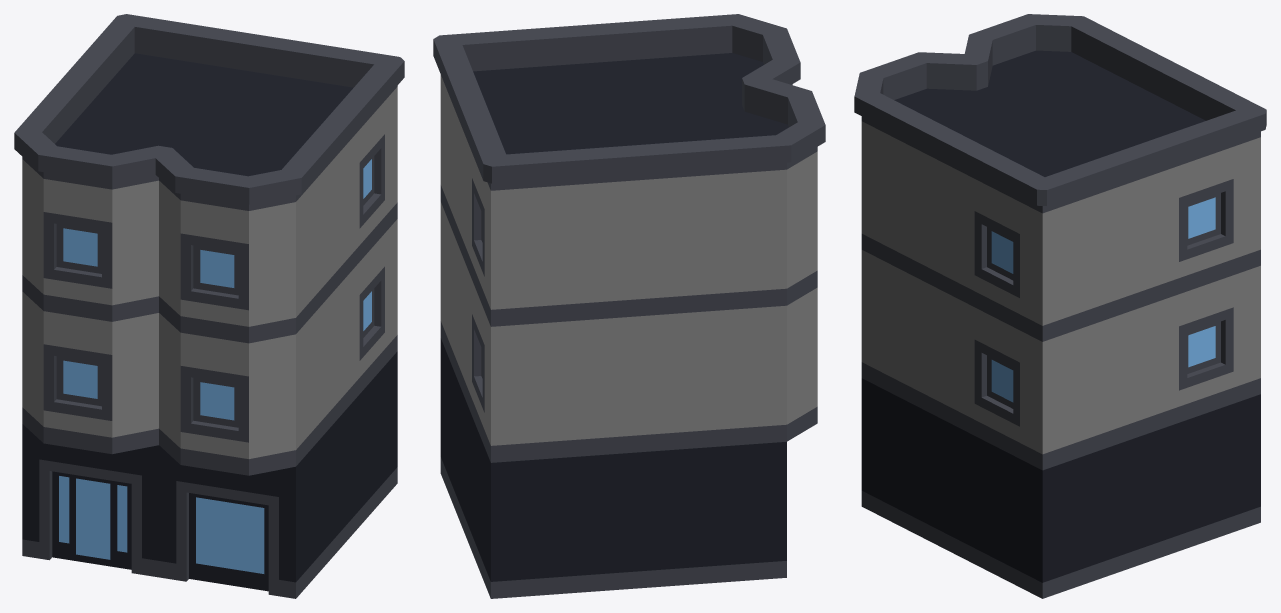
The model's file is variant_18.obj.
3 renders of one model, left to right at view 1: azimuth 30°, elevation 25°; view 2: azimuth 150°, elevation 25°; view 3: azimuth 270°, elevation 25°, orthographic. The views are drawn at different scales.
Visible parts, largest first — view 1: small_buildingA; view 2: small_buildingA; view 3: small_buildingA.
Boxes of the visible parts, box(x1,y1,x2,y2) form: small_buildingA: box(14, 14, 404, 598); small_buildingA: box(433, 14, 825, 598); small_buildingA: box(854, 14, 1266, 598).
Bounding box in the file's own units: 1.18 × 1.28 × 1.16.
